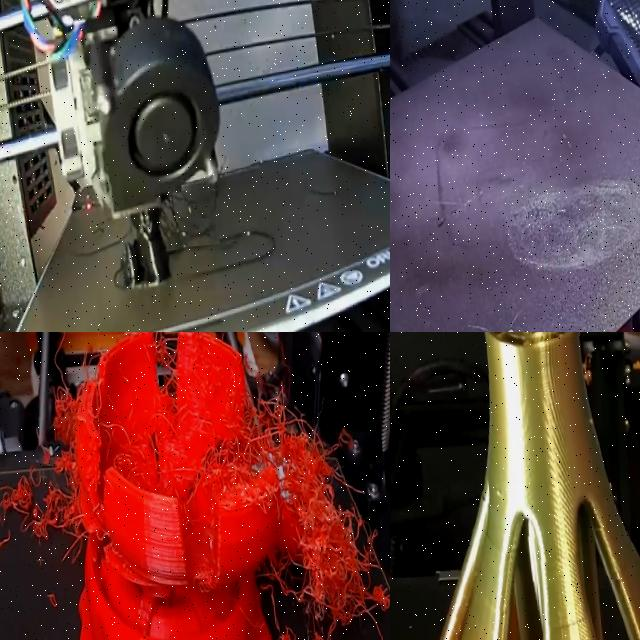spaghetti: (176, 332, 390, 640), (0, 383, 89, 563), (150, 182, 220, 250)
